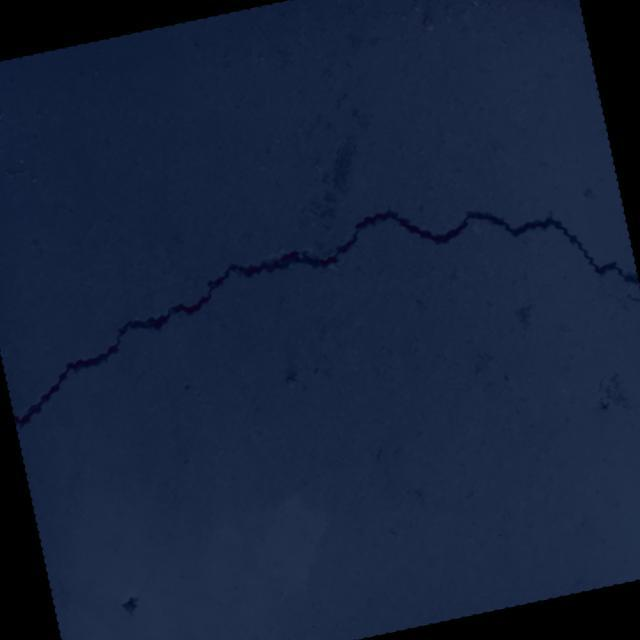crack: (0, 155, 640, 434), (132, 165, 188, 288)
